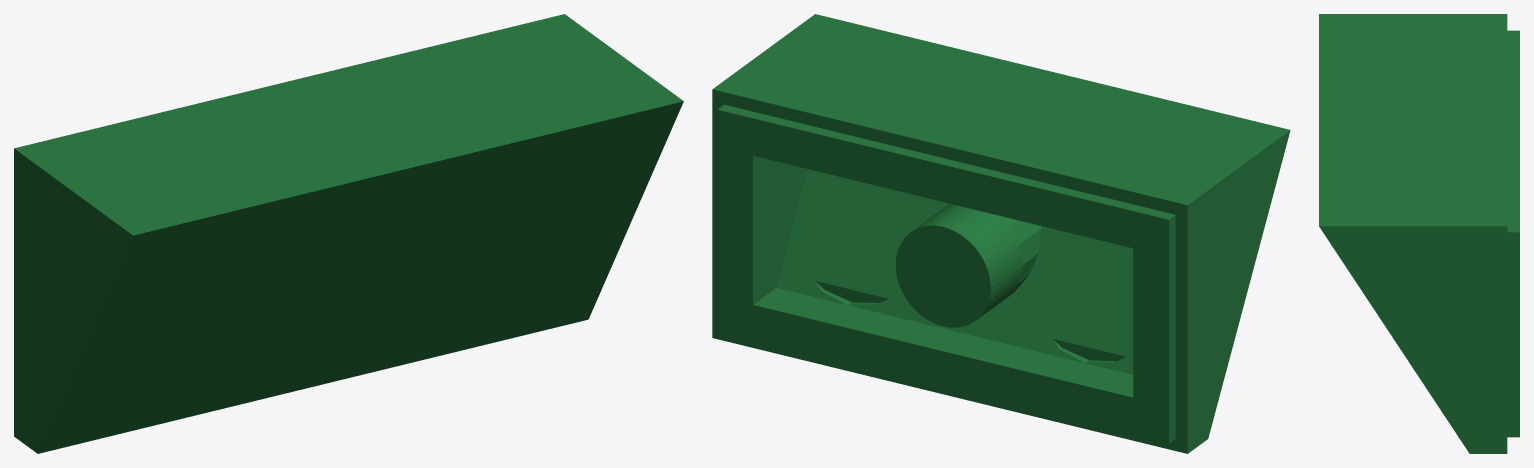
3 renders of one model, left to right at view 1: azimuth 30°, elevation 25°; view 2: azimuth 150°, elevation 25°; view 3: azimuth 270°, elevation 25°, orthographic. The views are drawn at different scales.
Visible parts, largest first — view 1: mesh_12, rect_3, _85984s01; view 2: _85984s01, rect_3, rect_1, _4_4disc, box4, _1_4cyli_1, _4_4cyls, _1_4cyli_2; view 3: rect_3, _85984s01, box4.
Part boxes in pixels (bbox=[...]): mesh_12: bbox=[38, 101, 683, 453]; rect_3: bbox=[14, 14, 683, 235]; _85984s01: bbox=[14, 148, 132, 453]; _85984s01: bbox=[712, 89, 1290, 453]; rect_3: bbox=[713, 14, 1289, 205]; rect_1: bbox=[753, 288, 1133, 397]; _4_4disc: bbox=[895, 225, 990, 327]; box4: bbox=[718, 104, 1175, 443]; _1_4cyli_1: bbox=[943, 208, 1022, 287]; _4_4cyls: bbox=[943, 204, 1041, 295]; _1_4cyli_2: bbox=[977, 265, 1022, 319]; rect_3: bbox=[1319, 14, 1507, 226]; _85984s01: bbox=[1319, 226, 1507, 453]; box4: bbox=[1507, 30, 1519, 437].
Size of the model in its own units: 40 by 20 by 16.
